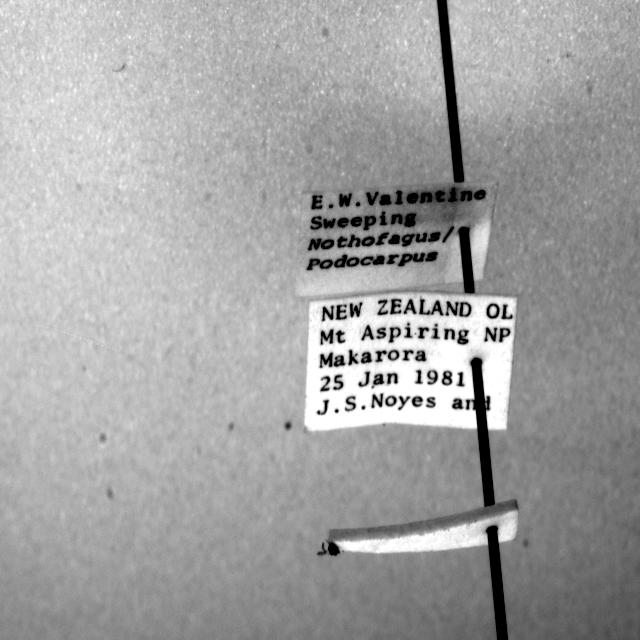typed_label: (305, 292, 518, 431), (295, 182, 498, 296)
